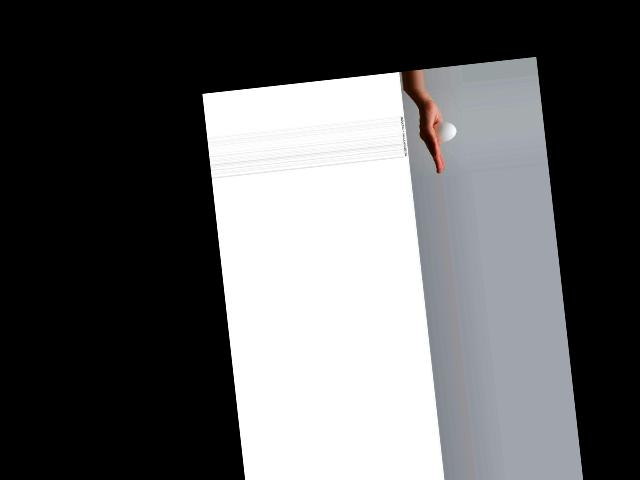egg: (432, 121, 457, 142)
